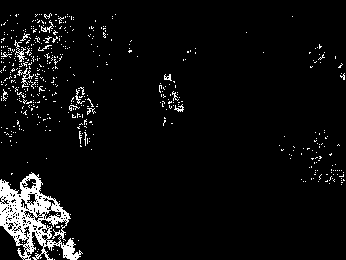person: (18, 172, 79, 260), (158, 71, 184, 128)
